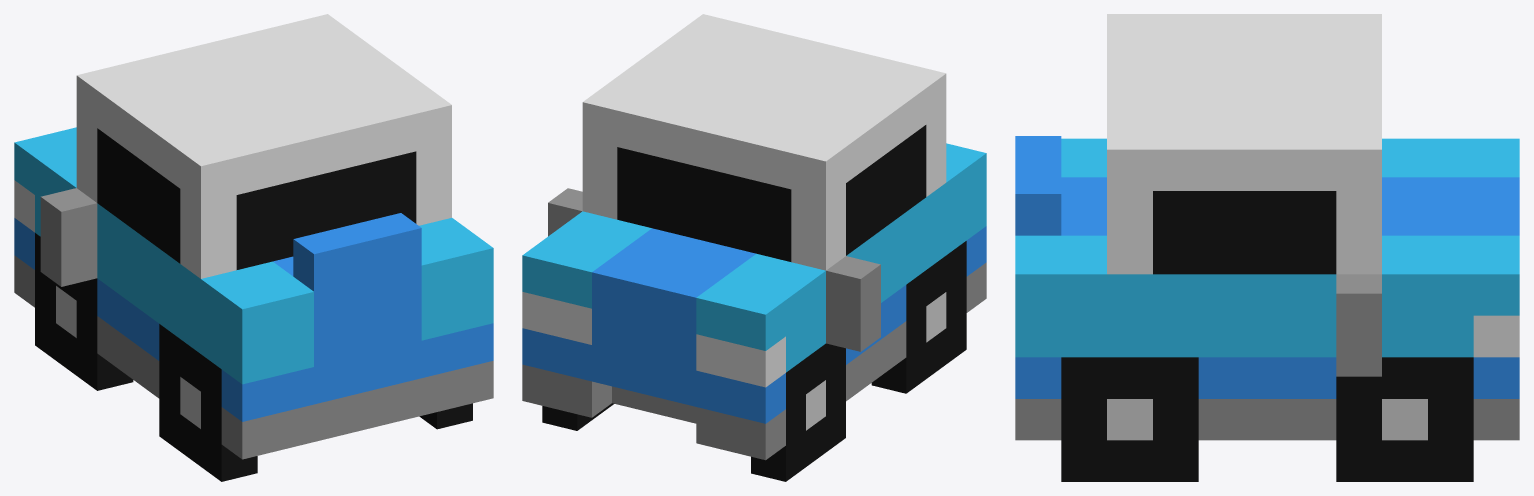
File: BlueCar.obj
3 views of the same model, side by side, from view 1: azimuth 30°, elevation 25°; view 2: azimuth 150°, elevation 25°; view 3: azimuth 270°, elevation 25° (orthographic). The views are drawn at different scales.
Visible parts, largest first — view 1: BlueCar; view 2: BlueCar; view 3: BlueCar.
Part boxes in pixels (<box>): BlueCar: <box>14,14,493,481</box>; BlueCar: <box>522,14,986,481</box>; BlueCar: <box>1015,14,1519,481</box>.
Bounding box in the file's own units: 9 × 8 × 11.
Materials: 1 (1 with a texture image).
